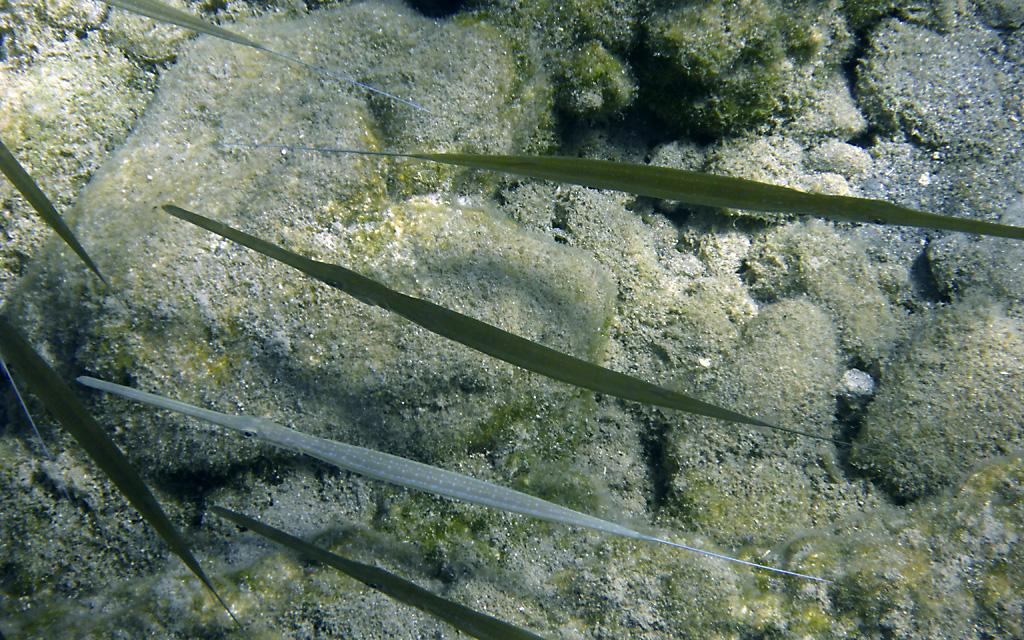Fistularia commersonii: (31, 318, 852, 612), (162, 201, 790, 464), (390, 78, 1024, 280)
